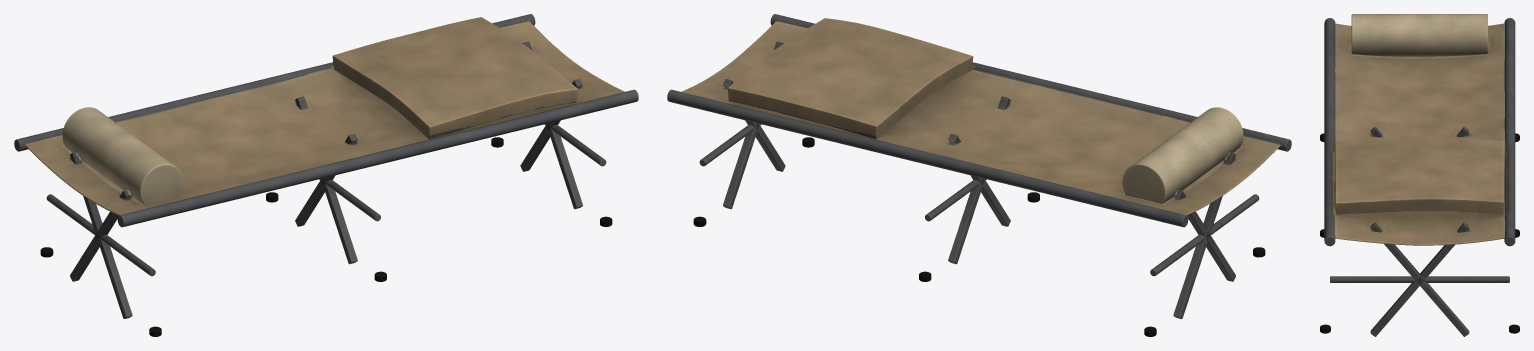
Rendered from cot.glb.
3 views of the same model, side by side, from view 1: azimuth 30°, elevation 25°; view 2: azimuth 150°, elevation 25°; view 3: azimuth 270°, elevation 25° (orthographic). The views are drawn at different scales.
Parts seen in each view (by area): view 1: cot; view 2: cot; view 3: cot.
Part boxes in pixels (box(x1,y1,x2,y2)): cot: box(14, 14, 638, 336); cot: box(667, 14, 1291, 336); cot: box(1320, 14, 1519, 336).
Size of the model in its own units: 1.9 by 0.5571 by 0.7326.
1 material, 1 textured.
